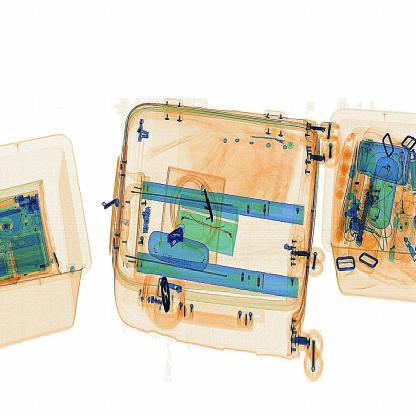knife: (164, 221, 190, 248)
